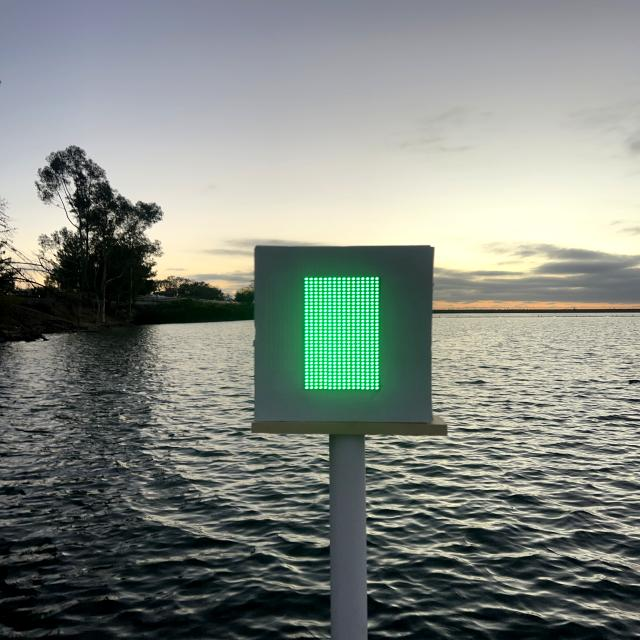led: (276, 259, 415, 415)
